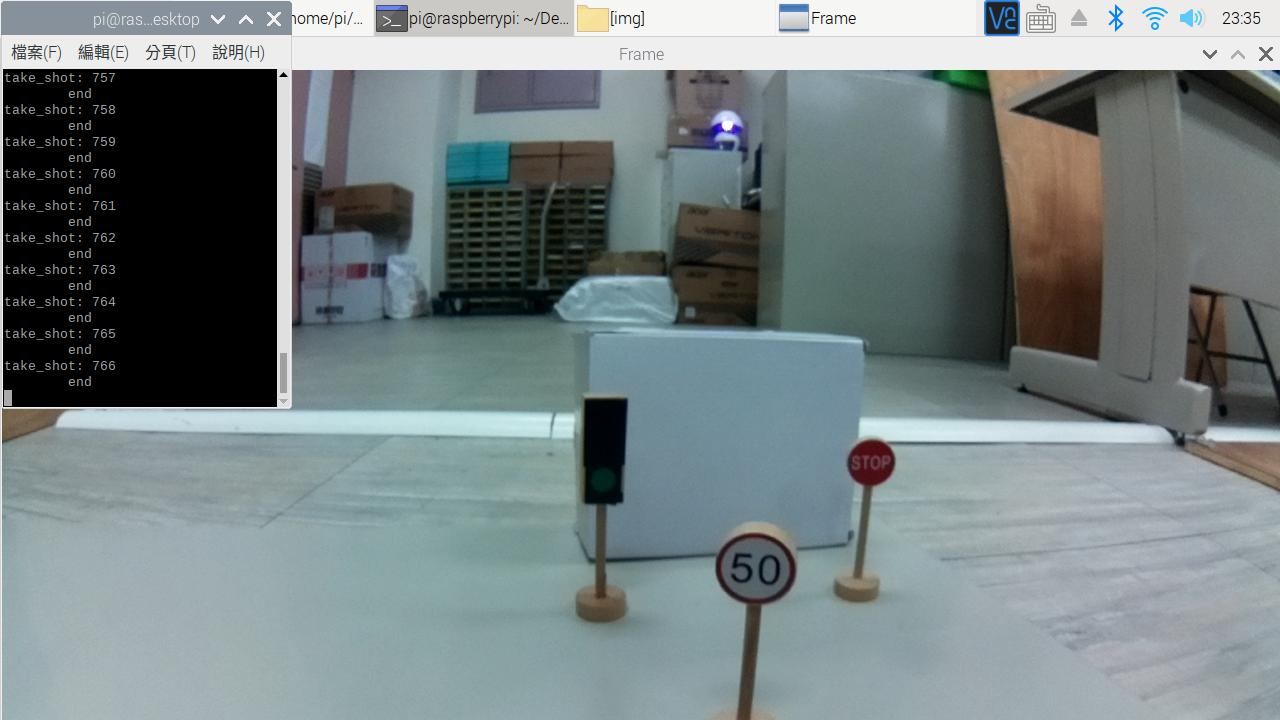Green: (565, 386, 639, 524)
Speed50: (692, 522, 812, 617)
Stop: (830, 426, 909, 496)
